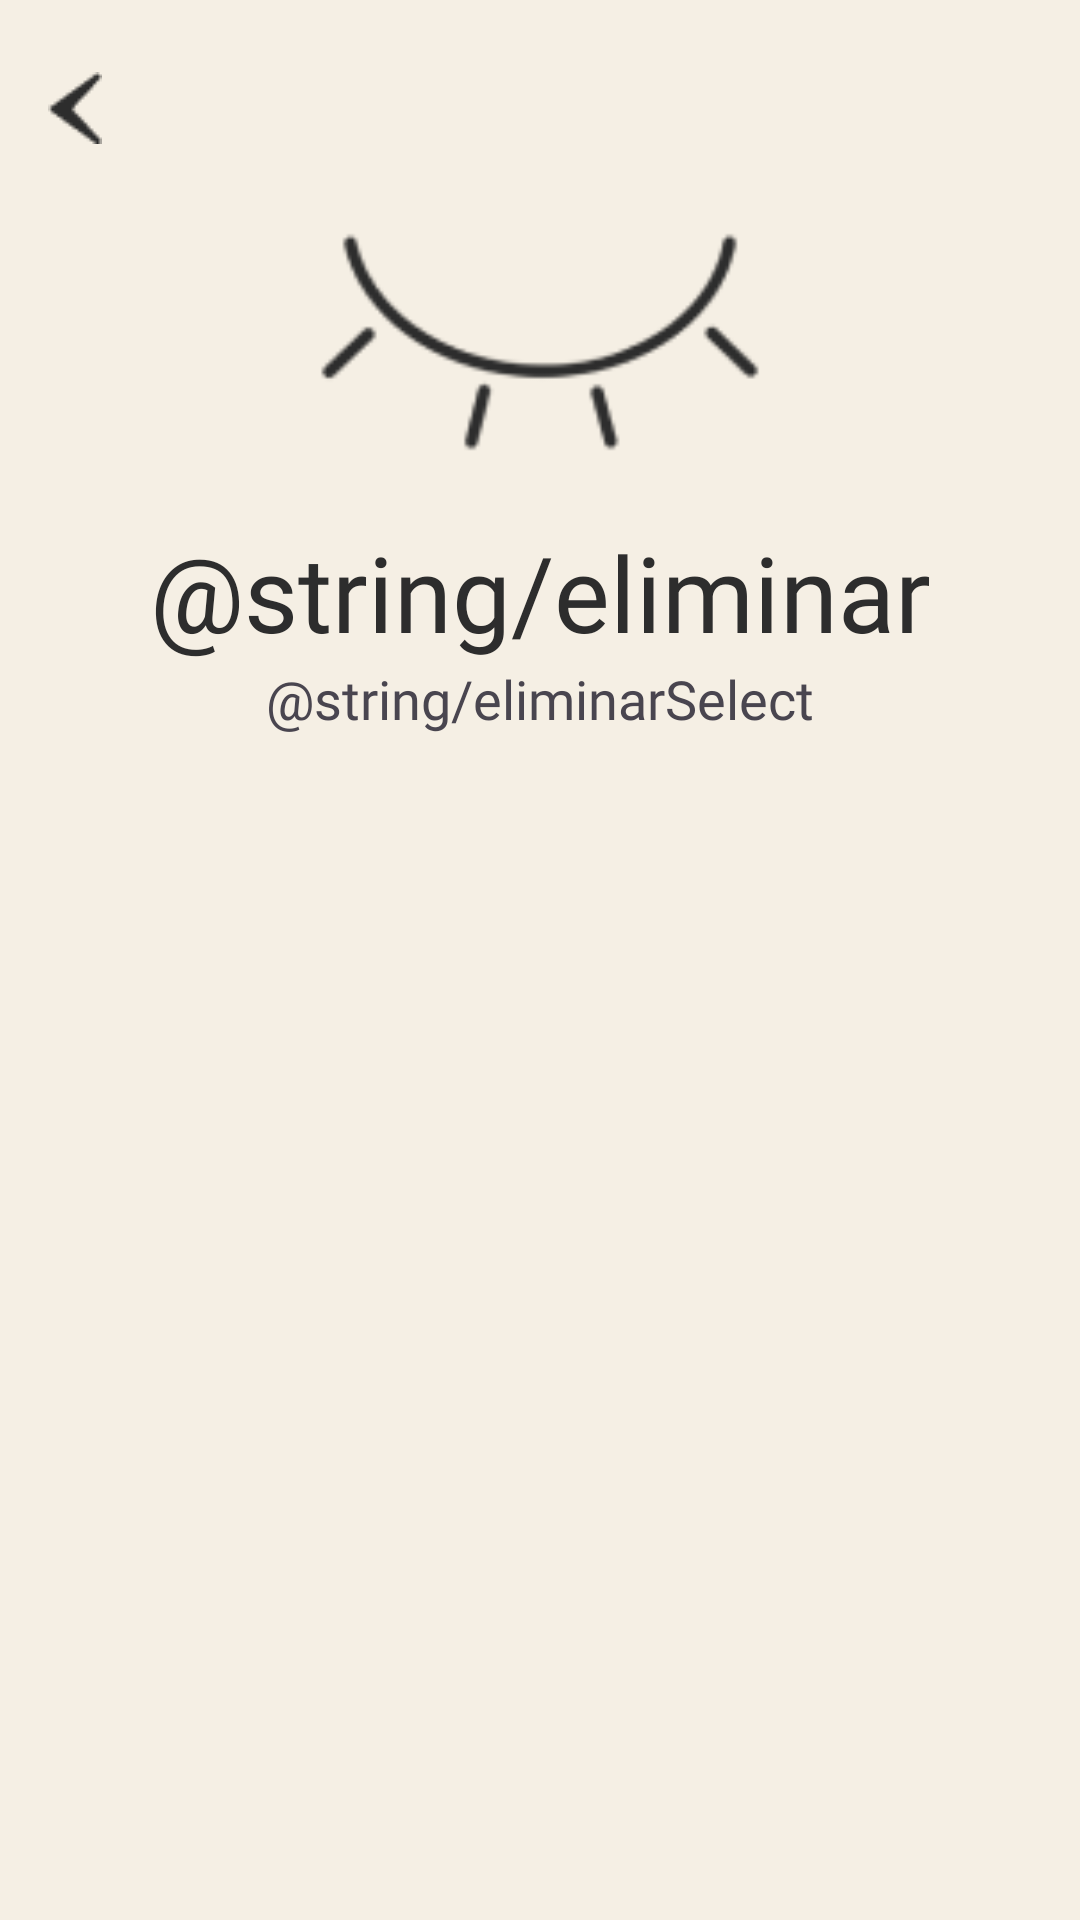

Screen size 1080w x 1920h. Icon name, then its box in pixels as (x1, y1, x2, y2):
Atrás: (48, 72, 102, 144)
